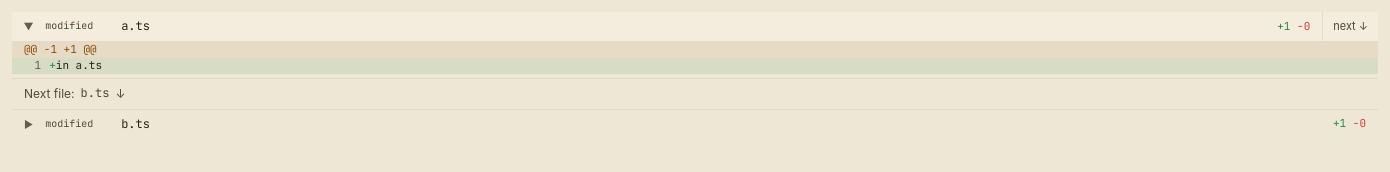
Test case: DiffFiles › moves to the next file
The width and height of the screenshot is (1390, 172).
Expected: the text "in a.ts" is shown, [56, 58, 102, 72]
Click the button with aria-label "Next file: b.ts": (1350, 27) [1322, 12, 1378, 41]
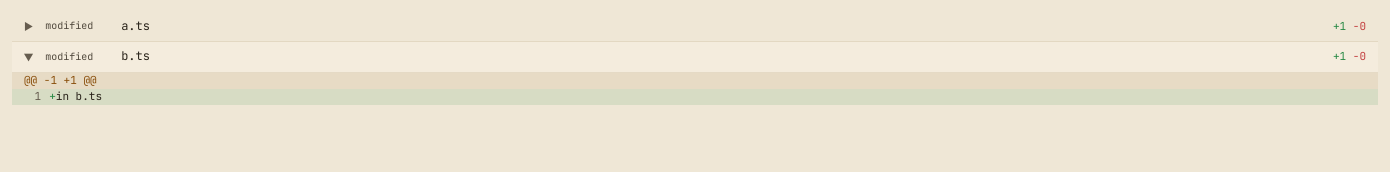
Expected: the text "in a.ts" is gone
Expected: the text "in b.ts" is shown, [56, 89, 102, 103]
